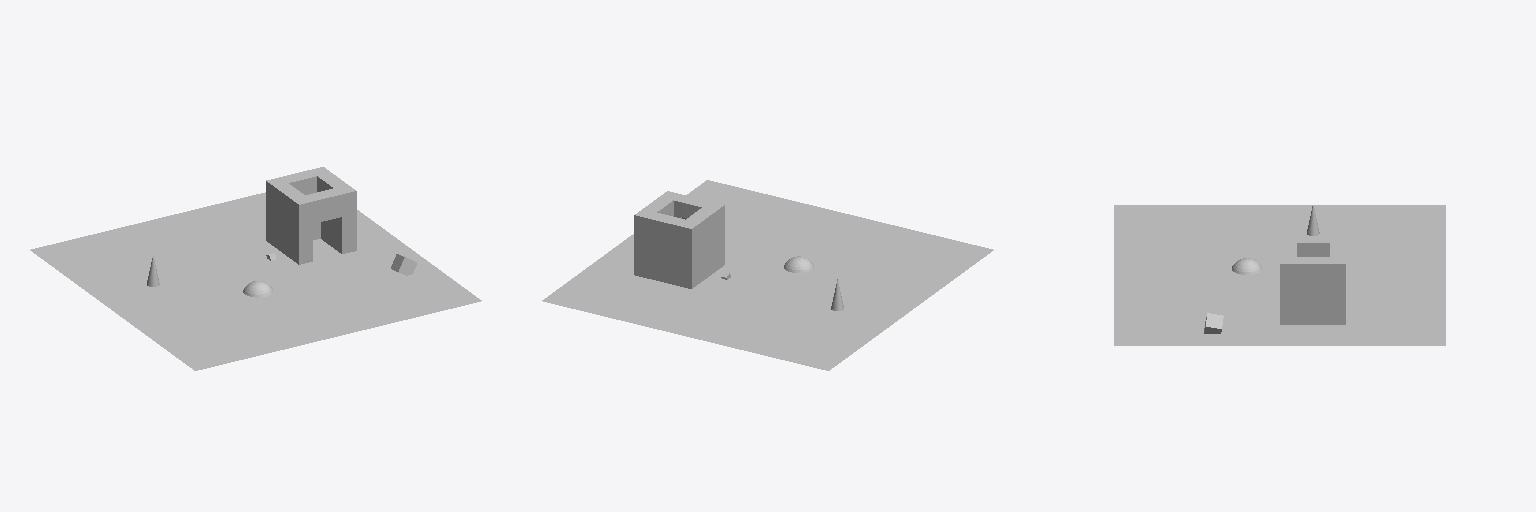
File: testingLevel.obj
The picture shows the model from 3 angles: view 1: azimuth 30°, elevation 25°; view 2: azimuth 150°, elevation 25°; view 3: azimuth 270°, elevation 25°; orthographic projection.
Parts seen in each view (by area): view 1: Plane, Rom_Cube.003; view 2: Plane, Rom_Cube.003; view 3: Plane, Rom_Cube.003.
Boxes of the visible parts, box(x1,y1,x2,y2) form: Plane: box(30, 192, 481, 370); Rom_Cube.003: box(266, 167, 356, 264); Plane: box(542, 180, 993, 370); Rom_Cube.003: box(634, 191, 724, 288); Plane: box(1114, 205, 1445, 345); Rom_Cube.003: box(1280, 236, 1345, 324).
Size of the model in its own units: 100 by 27 by 100.